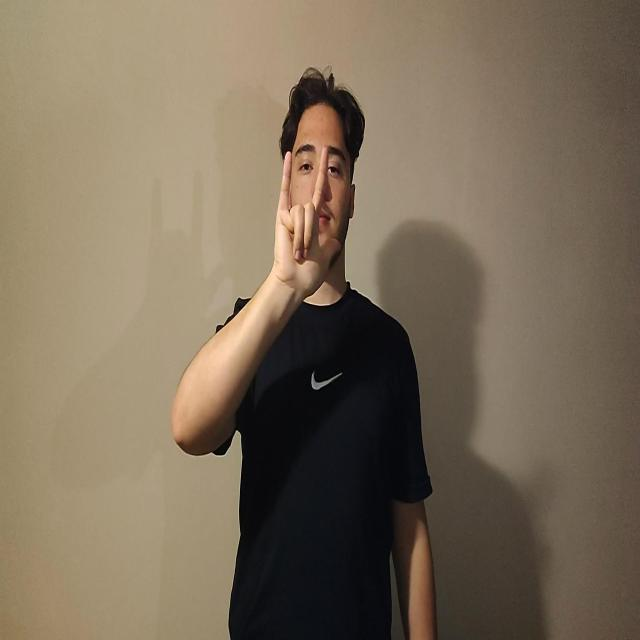iloveyou: (272, 146, 342, 300)
